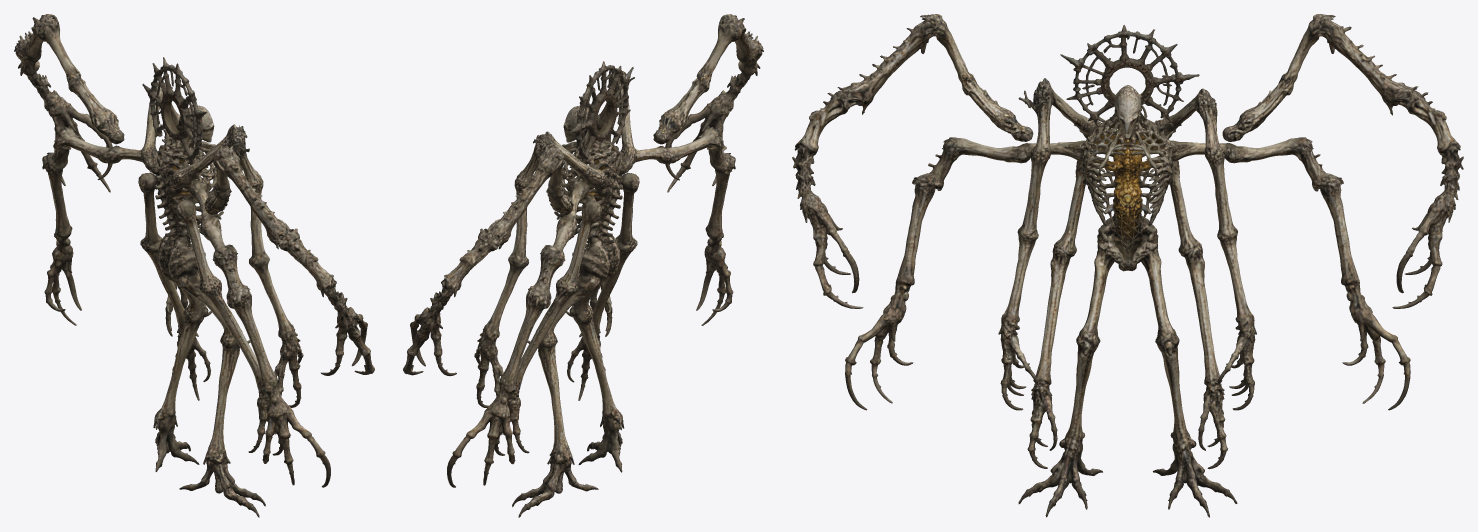
File: create-the-exact-isolated-boss-body-show-cmu12uau.glb
The picture shows the model from 3 angles, left to right: view 1: azimuth 30°, elevation 25°; view 2: azimuth 150°, elevation 25°; view 3: azimuth 270°, elevation 25°; orthographic projection. The views are drawn at different scales.
Parts seen in each view (by area): view 1: tripo_node_92afabd9-ec83-478c-a69c-5082a620000a; view 2: tripo_node_92afabd9-ec83-478c-a69c-5082a620000a; view 3: tripo_node_92afabd9-ec83-478c-a69c-5082a620000a.
Part boxes in pixels (bbox=[...]): tripo_node_92afabd9-ec83-478c-a69c-5082a620000a: bbox=[14, 14, 374, 517]; tripo_node_92afabd9-ec83-478c-a69c-5082a620000a: bbox=[403, 14, 763, 517]; tripo_node_92afabd9-ec83-478c-a69c-5082a620000a: bbox=[792, 14, 1463, 517].
Bounding box in the file's own units: 0.2446 × 0.7539 × 0.9853.
1 material, 1 textured.
